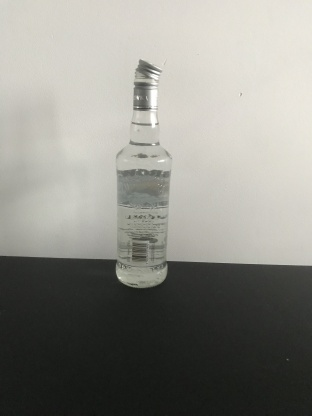nakretka: (131, 55, 163, 112)
